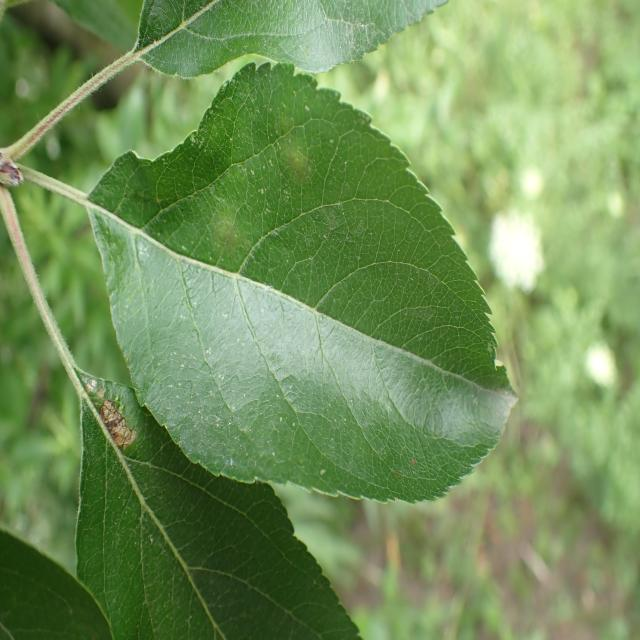scab: (236, 79, 334, 185), (184, 175, 268, 289)
